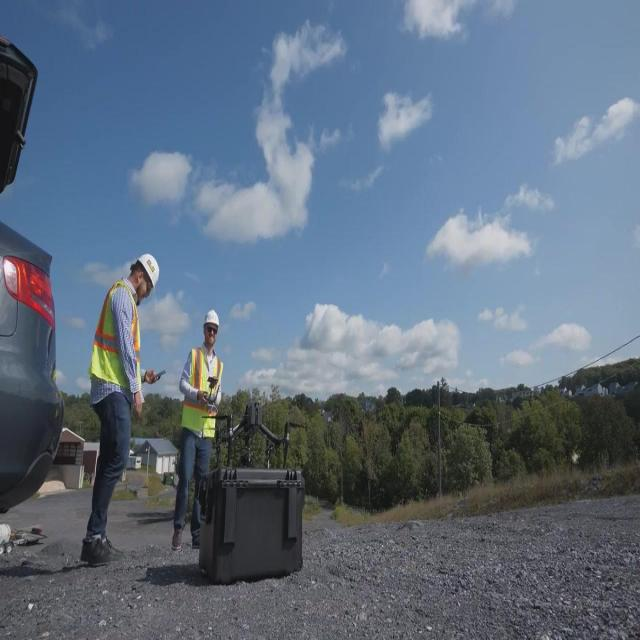Reflective-Jacket: (82, 275, 150, 415), (173, 344, 229, 450)
Safety-Helmet: (128, 241, 166, 301), (198, 300, 226, 342)
